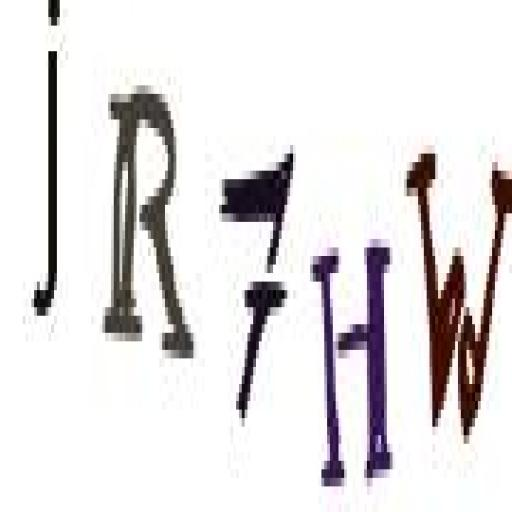7: (213, 139, 297, 434)
H: (307, 236, 397, 490)
R: (104, 73, 199, 372)
W: (403, 133, 512, 456)
j: (28, 0, 66, 316)
